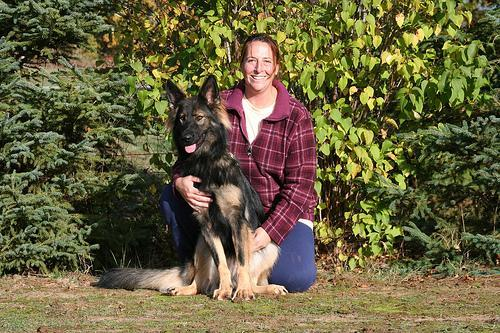German_shepherd: (97, 73, 289, 298)
